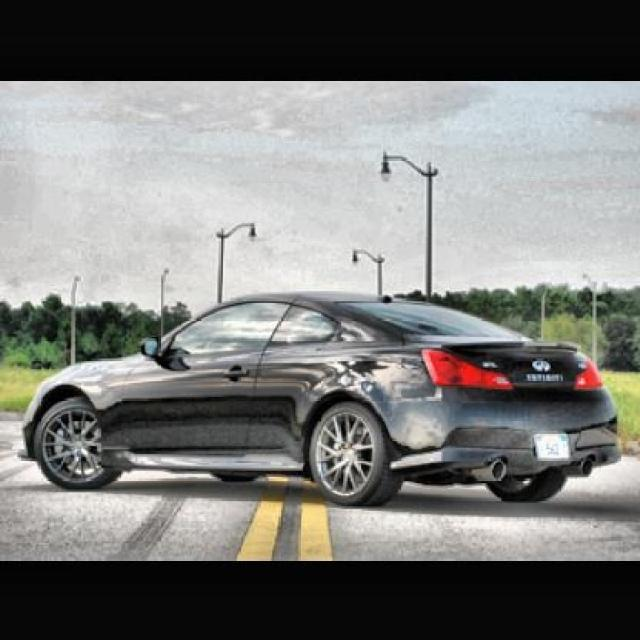black: (19, 278, 615, 519)
